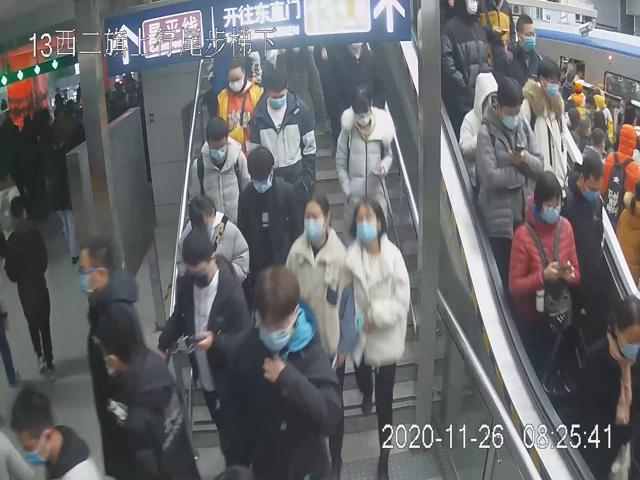person: (230, 260, 339, 480), (155, 230, 247, 448), (345, 195, 412, 480), (506, 165, 586, 403), (283, 192, 350, 444), (476, 71, 543, 254), (246, 69, 319, 202), (332, 81, 394, 234), (234, 146, 303, 276), (174, 190, 249, 282), (187, 116, 248, 227), (213, 48, 265, 141)
